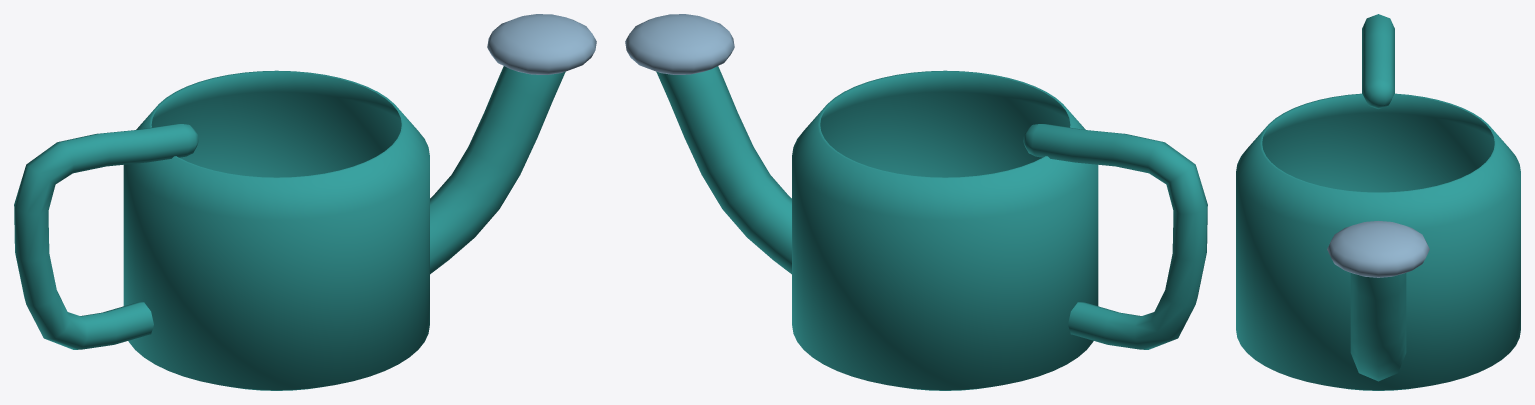
File: watering_can.glb
The picture shows the model from 3 angles, left to right: view 1: azimuth 30°, elevation 25°; view 2: azimuth 150°, elevation 25°; view 3: azimuth 270°, elevation 25°; orthographic projection. The views are drawn at different scales.
Visible parts, largest first — view 1: Can_body, Handle, Spout, Sprinkler_head; view 2: Can_body, Handle, Spout, Sprinkler_head; view 3: Can_body, Spout, Sprinkler_head, Handle.
Boxes of the visible parts, <box> form: Can_body: <box>123,70,429,390</box>; Handle: <box>14,124,198,349</box>; Spout: <box>430,66,565,274</box>; Sprinkler_head: <box>487,14,596,74</box>; Can_body: <box>792,70,1098,390</box>; Handle: <box>1023,124,1207,349</box>; Spout: <box>656,66,791,274</box>; Sprinkler_head: <box>625,14,734,74</box>; Can_body: <box>1236,93,1520,390</box>; Spout: <box>1350,273,1406,381</box>; Sprinkler_head: <box>1327,221,1429,277</box>; Handle: <box>1362,14,1394,108</box>.
Bounding box in the file's own units: 0.7789 × 0.336 × 0.36.
